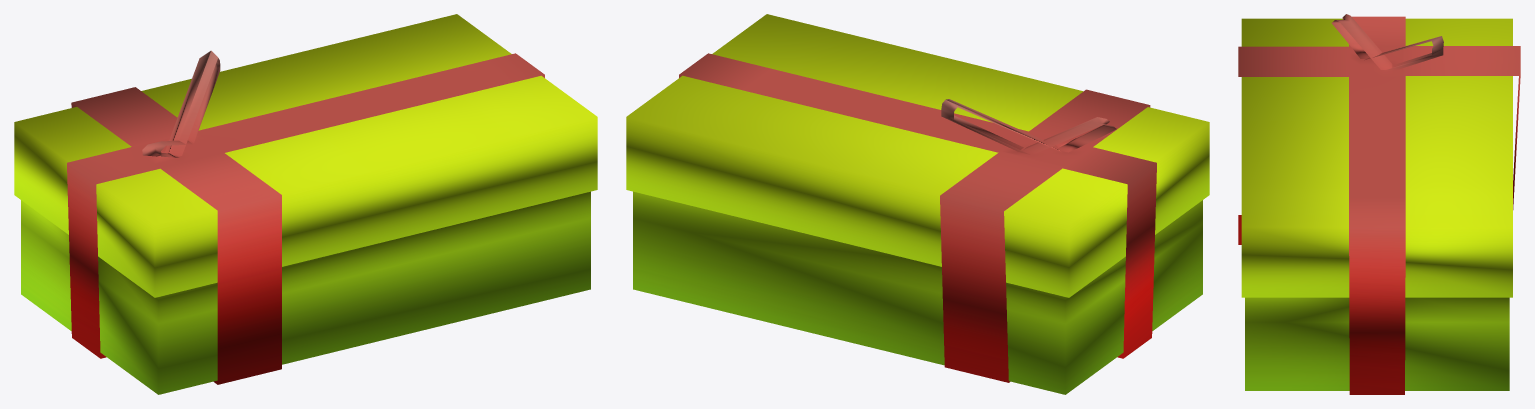
File: Geschenk_2.fbx
The picture shows the model from 3 angles, left to right: view 1: azimuth 30°, elevation 25°; view 2: azimuth 150°, elevation 25°; view 3: azimuth 270°, elevation 25°; orthographic projection. The views are drawn at different scales.
Visible parts, largest first — view 1: Cube; view 2: Cube; view 3: Cube.
Boxes of the visible parts, x1=… form: Cube: x1=14, y1=14, x2=597, y2=394; Cube: x1=626, y1=14, x2=1209, y2=394; Cube: x1=1238, y1=14, x2=1520, y2=394.
Bounding box in the file's own units: 235 × 117 × 133.
1 material, 1 textured.
